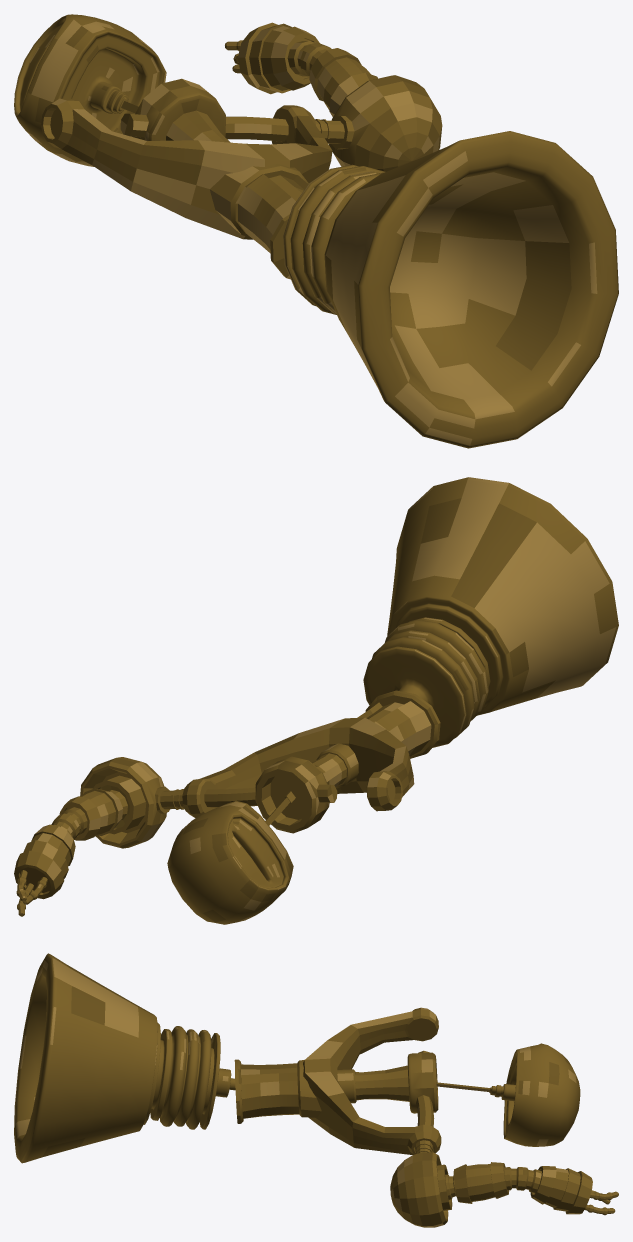
File: scrap2.fbx
3 views of the same model, one above another, from view 1: azimuth 30°, elevation 25°; view 2: azimuth 150°, elevation 25°; view 3: azimuth 270°, elevation 25° (orthographic). The views are drawn at different scales.
Parts seen in each view (by area): view 1: scrap2; view 2: scrap2; view 3: scrap2.
Part boxes in pixels (x1,y1,x2,y2): scrap2: (14,14,618,448); scrap2: (14,477,618,924); scrap2: (14,953,618,1227).
Bounding box in the file's own units: 119 × 87.15 × 240.
